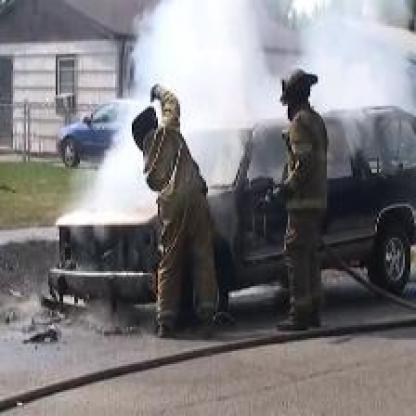other: (174, 34, 232, 101)
